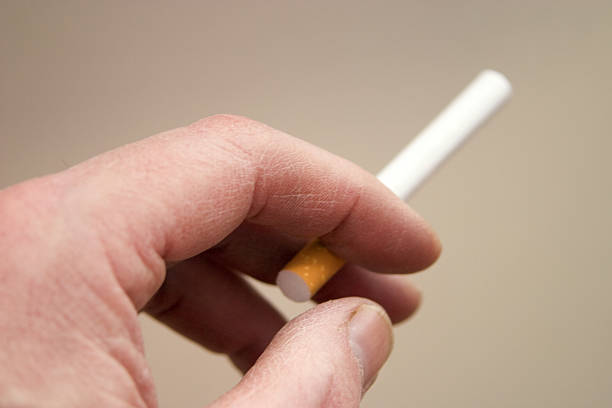cigarette: (277, 69, 513, 303)
